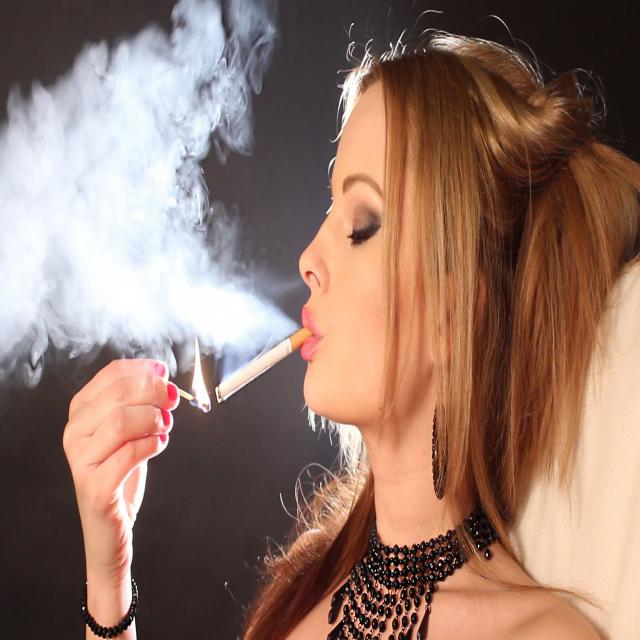cigarette: (216, 322, 313, 407)
